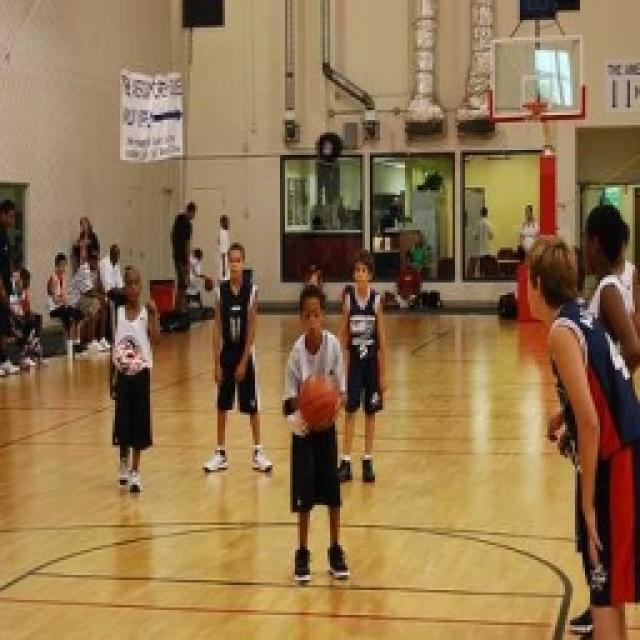rim: (296, 370, 348, 435)
